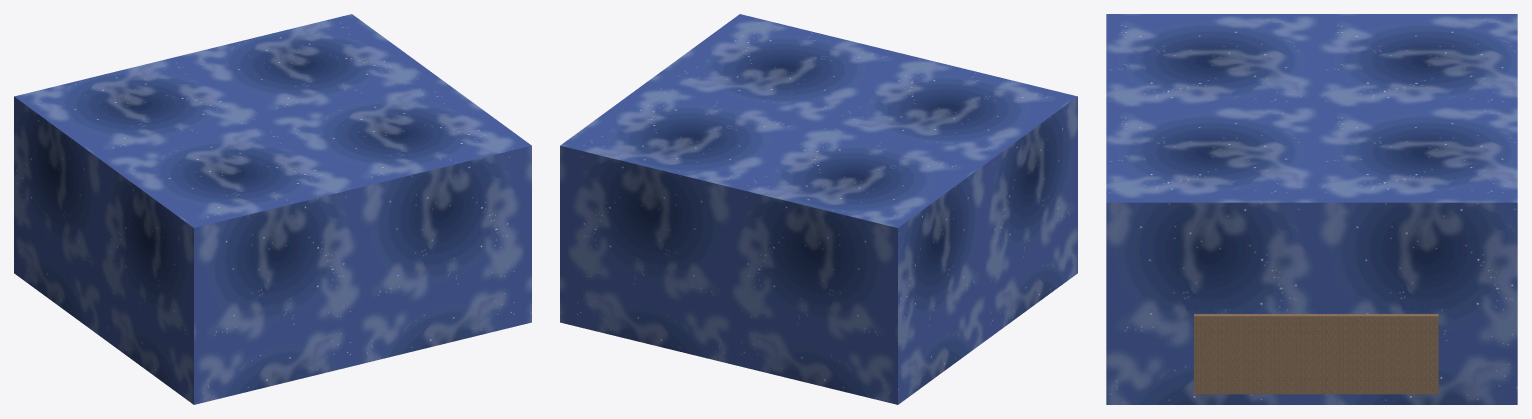
The model's file is Fight_brush.glb.
The picture shows the model from 3 angles, left to right: view 1: azimuth 30°, elevation 25°; view 2: azimuth 150°, elevation 25°; view 3: azimuth 270°, elevation 25°; orthographic projection. The views are drawn at different scales.
Visible parts, largest first — view 1: Fight; view 2: Fight; view 3: Fight.
Part boxes in pixels (<box>): Fight: <box>14,14,531,404</box>; Fight: <box>560,14,1077,404</box>; Fight: <box>1106,14,1517,404</box>.
Bounding box in the file's own units: 7098 × 3302 × 6088.
7 materials, 7 textured.
